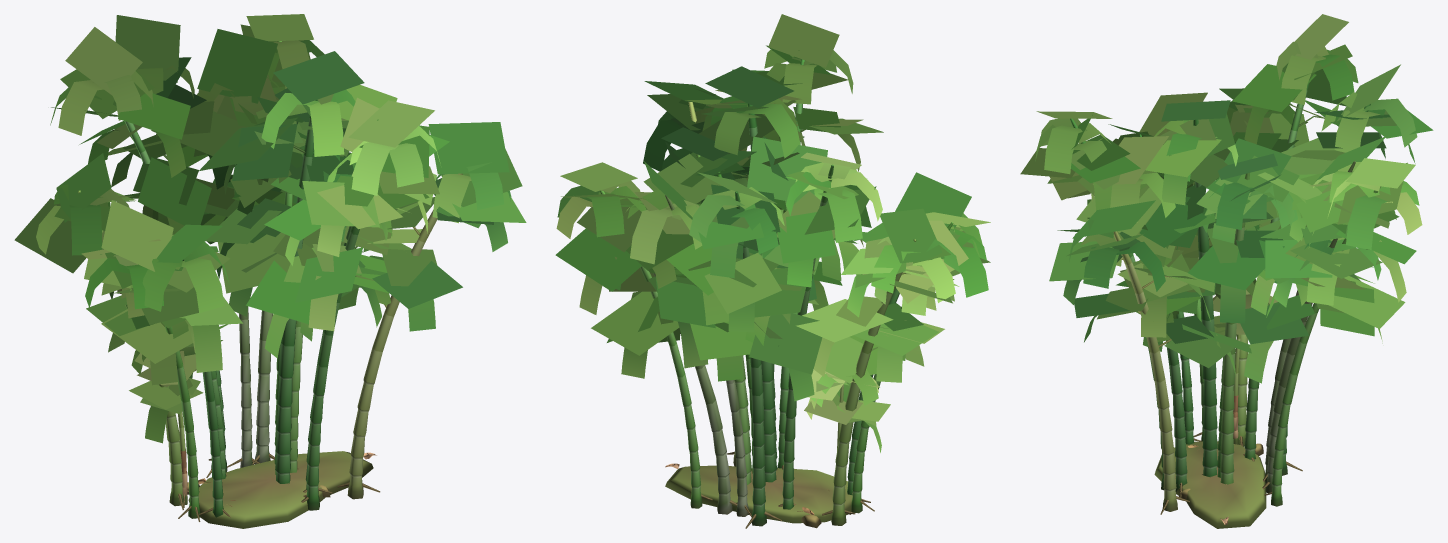
The model's file is tree-stand-wall-v0.glb.
The picture shows the model from 3 angles, left to right: view 1: azimuth 30°, elevation 25°; view 2: azimuth 150°, elevation 25°; view 3: azimuth 270°, elevation 25°; orthographic projection. The views are drawn at different scales.
Parts seen in each view (by area): view 1: culmLeaf, culm; view 2: culmLeaf, culm; view 3: culmLeaf, culm.
Part boxes in pixels (left/top/right/bottom): culmLeaf: left=14, top=14, right=526, bottom=443; culm: left=78, top=41, right=462, bottom=528; culmLeaf: left=555, top=14, right=990, bottom=452; culm: left=599, top=59, right=953, bottom=528; culmLeaf: left=1020, top=14, right=1433, bottom=383; culm: left=1070, top=83, right=1380, bottom=528.
Bounding box in the file's own units: 8.66 × 8.97 × 8.16.
